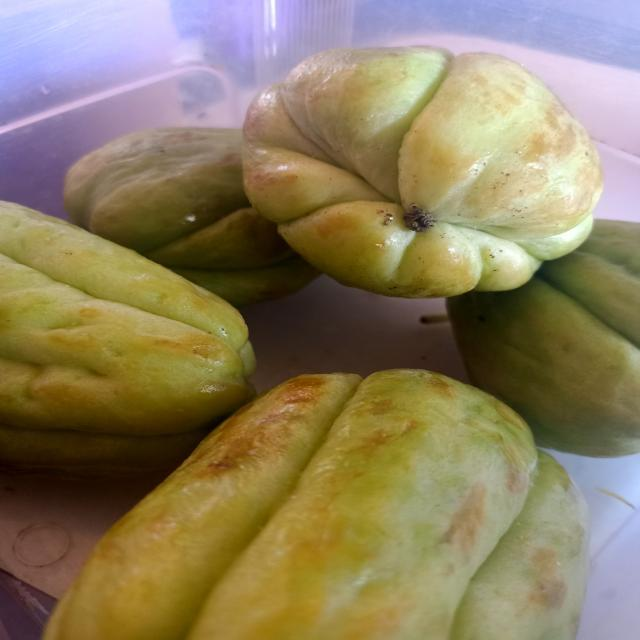Chayote: (29, 366, 603, 639), (227, 44, 618, 309), (3, 188, 265, 476)
